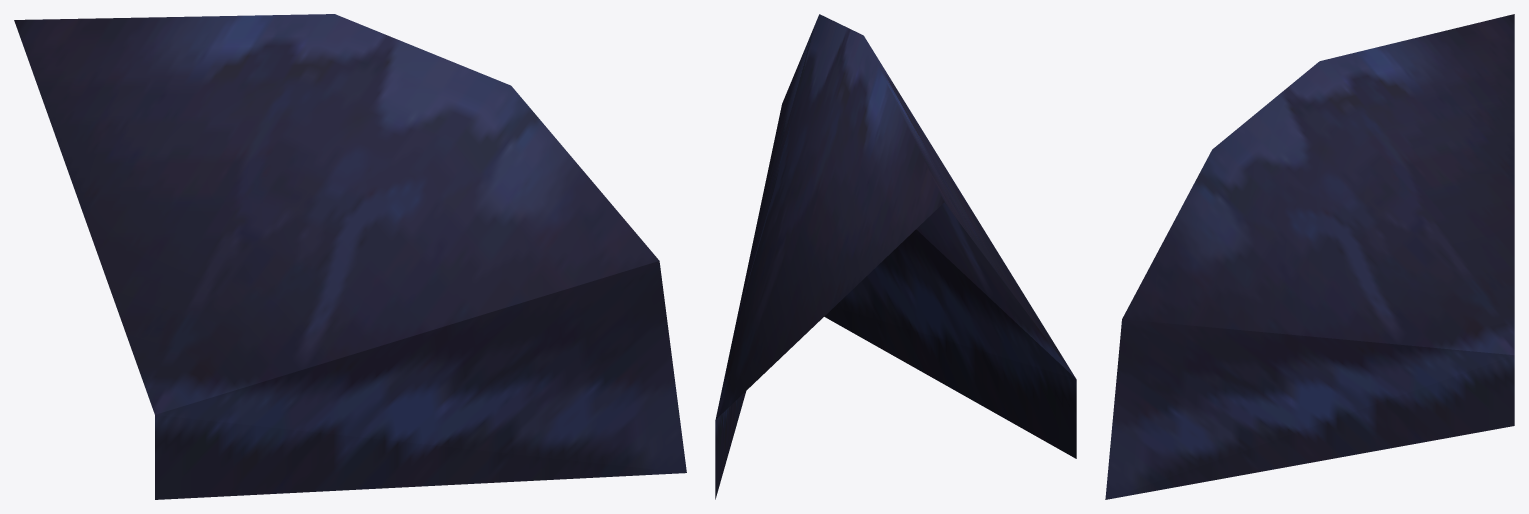
File: palace_rail_convex_01.fbx
The picture shows the model from 3 angles, left to right: view 1: azimuth 30°, elevation 25°; view 2: azimuth 150°, elevation 25°; view 3: azimuth 270°, elevation 25°; orthographic projection. The views are drawn at different scales.
Parts seen in each view (by area): view 1: palace_tileset/palace_corners_mat; view 2: palace_tileset/palace_corners_mat; view 3: palace_tileset/palace_corners_mat.
Part boxes in pixels (x1,y1,x2,y2): palace_tileset/palace_corners_mat: (14, 14, 686, 499); palace_tileset/palace_corners_mat: (715, 14, 1076, 499); palace_tileset/palace_corners_mat: (1105, 14, 1514, 499).
Bounding box in the file's own units: 0.6871 × 0.6452 × 0.6871.
